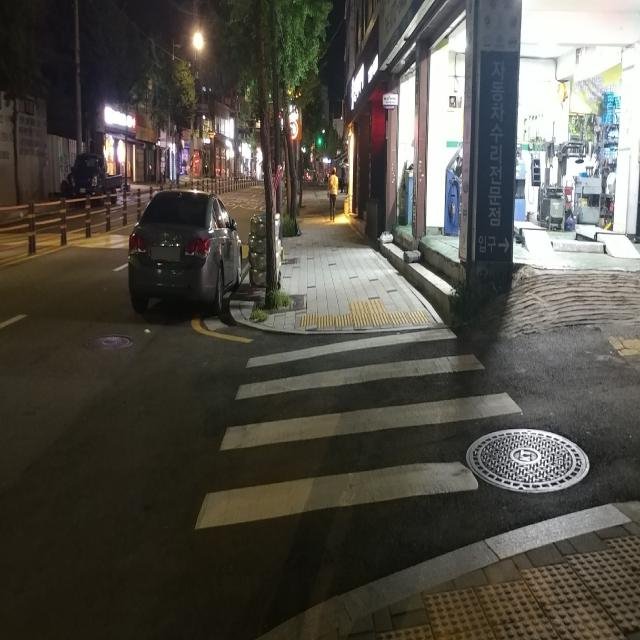횡단보도: (194, 326, 523, 532)
